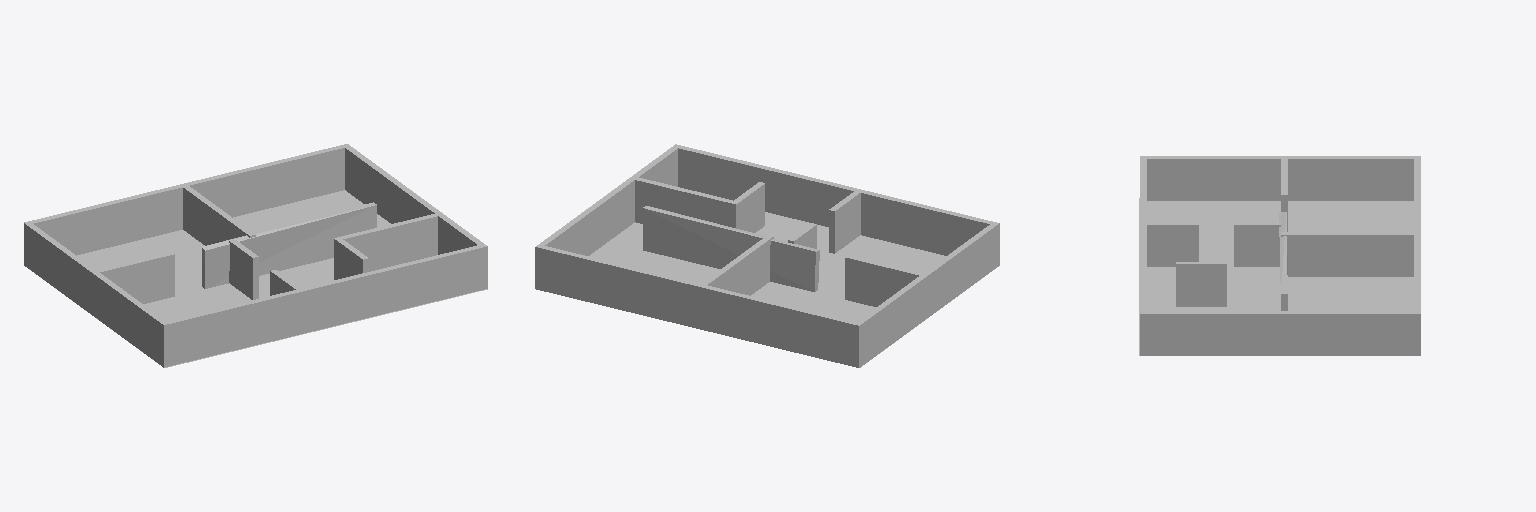
The model's file is room.obj.
3 renders of one model, left to right at view 1: azimuth 30°, elevation 25°; view 2: azimuth 150°, elevation 25°; view 3: azimuth 270°, elevation 25°, orthographic.
Visible parts, largest first — view 1: Plane_Plane.002; view 2: Plane_Plane.002; view 3: Plane_Plane.002.
Part boxes in pixels (left/top/right/bottom): Plane_Plane.002: left=24, top=144, right=487, bottom=367; Plane_Plane.002: left=535, top=144, right=999, bottom=367; Plane_Plane.002: left=1139, top=156, right=1420, bottom=355.
Size of the model in its own units: 16.01 by 2 by 12.07.